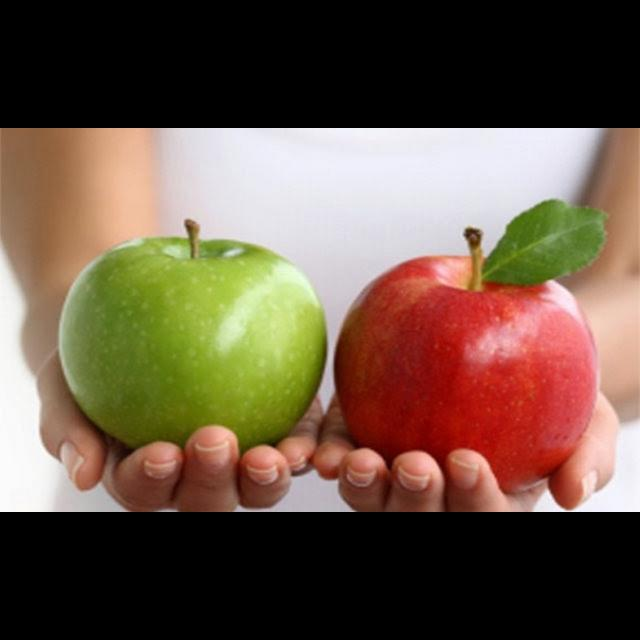Apel Segar: (343, 245, 604, 490), (58, 230, 336, 450)
